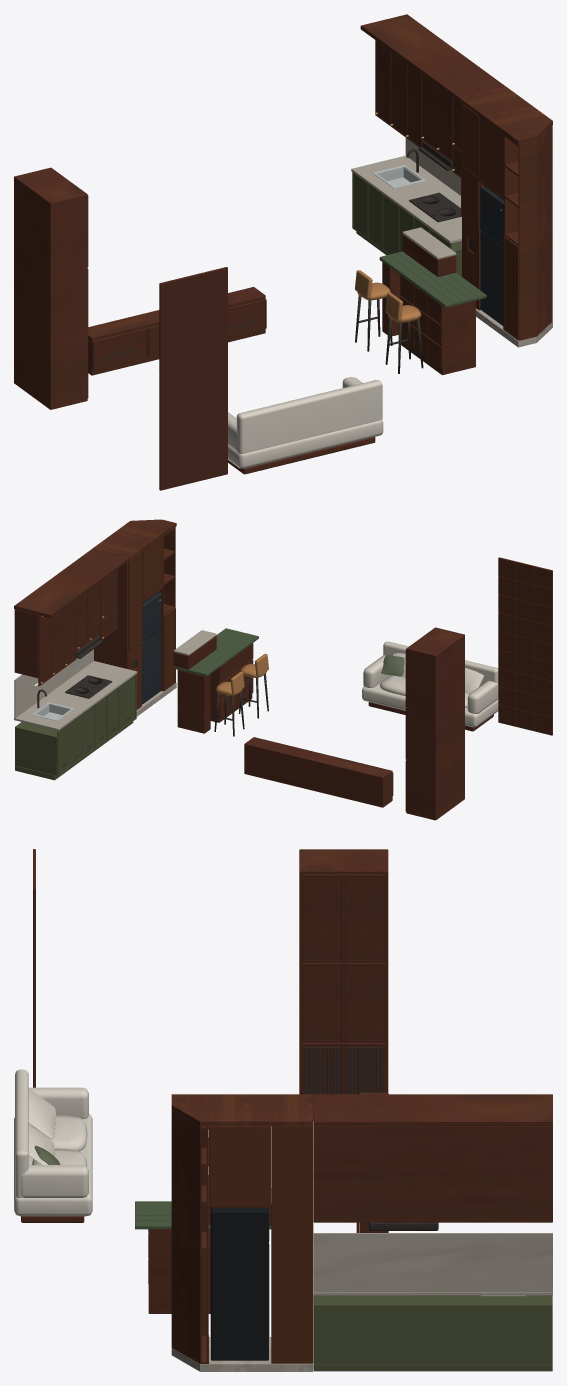
File: social.glb
The picture shows the model from 3 angles, top to bottom: view 1: azimuth 30°, elevation 25°; view 2: azimuth 150°, elevation 25°; view 3: azimuth 270°, elevation 25°; orthographic projection. The views are drawn at different scales.
Parts seen in each view (by area): view 1: Angled return at entry, Baltimore teak bicycle door, Full-height teak backdrop backing, Baltimore teak upper door, Padded sofa seat, Grid-panel island face, 2300 mm media cabinet carcass, Sandimas Amarillo counter, Lower cabinet carcass, Refrigerator lower door, Glossy green island tile, Black base door vent (+10 smaller); view 2: Baltimore teak bicycle door, Baltimore teak upper door, Alternating teak veneer panel, Angled return at entry, Lower cabinet carcass, 2300 mm media cabinet carcass, Grid-panel island face, Sandimas Amarillo counter, Padded sofa seat, Refrigerator lower door, Glossy green island tile, Black base door vent (+8 smaller); view 3: Baltimore teak upper door, Angled return at entry, Baltimore teak bicycle door, Lower cabinet carcass, Sandimas Amarillo counter, Padded sofa seat, Recessed refrigerator grip, Baltimore teak bicycle door horizontal frame, Lower dark ventilation grille, Grid-panel island face, Existing Amarillo plinth, Glossy green island tile (+1 smaller).
Boxes of the visible parts, <box> form: Angled return at entry: <box>459,86,552,340</box>; Baltimore teak bicycle door: <box>14,167,87,409</box>; Full-height teak backdrop backing: <box>159,267,227,490</box>; Baltimore teak upper door: <box>360,14,505,175</box>; Padded sofa seat: <box>228,377,383,468</box>; Grid-panel island face: <box>382,234,475,375</box>; 2300 mm media cabinet carcass: <box>87,287,265,375</box>; Sandimas Amarillo counter: <box>351,138,461,243</box>; Lower cabinet carcass: <box>352,172,461,276</box>; Refrigerator lower door: <box>480,186,504,325</box>; Glossy green island tile: <box>379,251,486,307</box>; Black base door vent: <box>357,141,460,250</box>; Baltimore teak bicycle door: <box>406,627,464,820</box>; Baltimore teak upper door: <box>14,548,129,685</box>; Alternating teak veneer panel: <box>498,558,552,735</box>; Angled return at entry: <box>93,519,176,709</box>; Lower cabinet carcass: <box>15,674,136,780</box>; 2300 mm media cabinet carcass: <box>244,737,392,807</box>; Grid-panel island face: <box>173,635,253,733</box>; Sandimas Amarillo counter: <box>14,649,137,730</box>; Padded sofa seat: <box>362,641,498,727</box>; Refrigerator lower door: <box>142,592,161,704</box>; Glossy green island tile: <box>173,628,258,676</box>; Black base door vent: <box>37,635,130,767</box>; Baltimore teak upper door: <box>313,1094,552,1222</box>; Angled return at entry: <box>171,1094,313,1363</box>; Baltimore teak bicycle door: <box>299,849,388,1118</box>; Lower cabinet carcass: <box>313,1295,552,1371</box>; Sandimas Amarillo counter: <box>313,1233,552,1295</box>; Padded sofa seat: <box>14,1069,92,1216</box>; Recessed refrigerator grip: <box>211,1207,268,1360</box>; Baltimore teak bicycle door horizontal frame: <box>302,875,385,1120</box>; Lower dark ventilation grille: <box>304,1047,383,1094</box>; Grid-panel island face: <box>148,1204,271,1313</box>; Existing Amarillo plinth: <box>171,1337,313,1371</box>; Glossy green island tile: <box>135,1201,271,1229</box>.
Size of the model in its own units: 6.1 by 2.61 by 5.09.
Materials: 16 (2 with a texture image).
